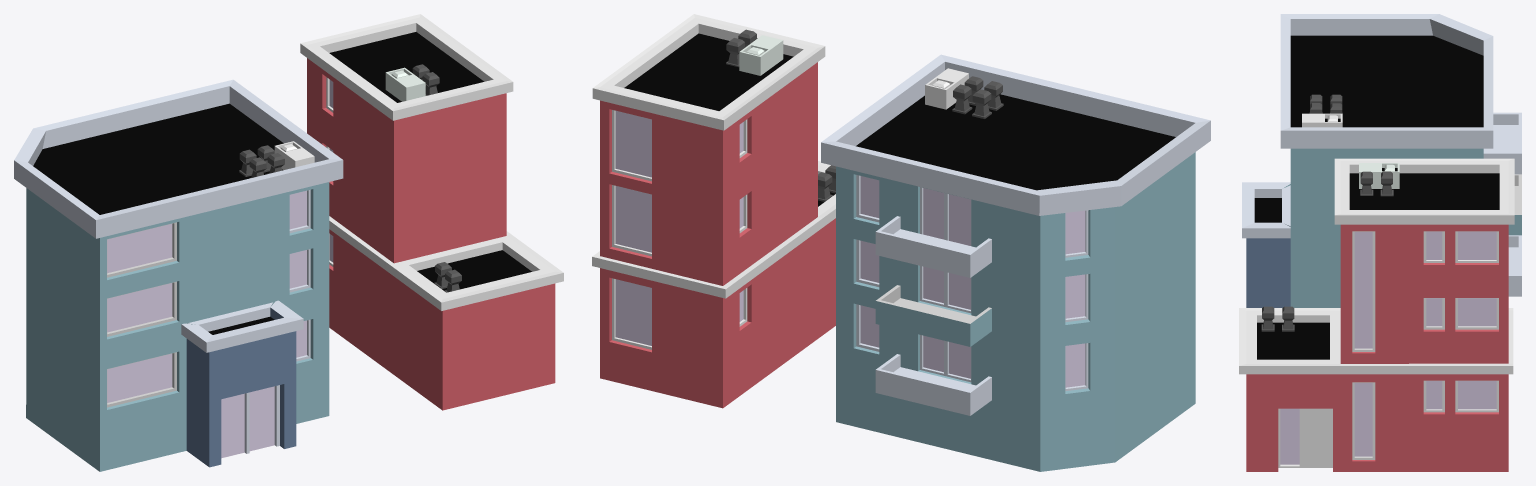
Rendered from apartmentbuildings.fbx.
3 views of the same model, side by side, from view 1: azimuth 30°, elevation 25°; view 2: azimuth 150°, elevation 25°; view 3: azimuth 270°, elevation 25° (orthographic). The views are drawn at different scales.
Visible parts, largest first — view 1: air conduct.002; view 2: air conduct.002; view 3: air conduct.002.
Part boxes in pixels (left/top/right/bottom): air conduct.002: left=14, top=14, right=563, bottom=471; air conduct.002: left=592, top=14, right=1210, bottom=471; air conduct.002: left=1239, top=14, right=1521, bottom=471.
Bounding box in the file's own units: 5208 × 3103 × 2952.
